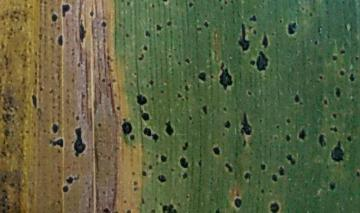tarspot: (216, 61, 235, 91), (71, 126, 87, 157), (237, 21, 251, 53), (329, 140, 347, 163), (239, 110, 254, 136), (255, 50, 271, 72), (162, 119, 175, 137), (77, 19, 87, 42), (120, 118, 132, 136), (316, 132, 329, 148), (286, 19, 298, 36), (46, 137, 66, 147), (59, 3, 73, 17), (135, 92, 148, 106), (177, 156, 191, 169), (222, 161, 236, 174), (161, 203, 179, 213), (260, 33, 271, 49), (139, 110, 152, 123), (285, 153, 297, 167), (268, 201, 281, 213), (231, 196, 244, 208), (49, 121, 60, 134), (142, 126, 155, 137), (298, 127, 308, 141), (333, 85, 343, 99), (197, 71, 209, 82), (326, 180, 338, 191), (56, 34, 66, 47), (200, 104, 211, 115), (211, 145, 222, 156), (31, 94, 38, 110), (99, 18, 109, 29), (157, 174, 168, 184), (223, 118, 233, 129), (48, 13, 60, 22), (151, 133, 161, 143), (292, 93, 302, 103), (64, 176, 76, 184), (112, 104, 124, 112), (181, 141, 190, 151), (154, 23, 164, 32), (284, 133, 293, 143), (60, 185, 71, 193), (159, 154, 168, 163), (270, 173, 279, 182), (248, 14, 257, 23), (138, 52, 146, 62), (88, 9, 96, 18), (329, 125, 338, 133), (321, 97, 330, 105), (184, 56, 193, 64), (338, 68, 346, 77), (96, 120, 104, 129), (221, 105, 230, 113), (312, 38, 320, 47), (244, 171, 251, 181), (338, 48, 348, 55), (130, 179, 141, 185), (143, 29, 151, 37), (183, 84, 191, 92), (331, 54, 339, 62), (285, 117, 293, 125), (146, 163, 154, 171), (259, 164, 268, 171), (181, 171, 188, 180), (187, 1, 196, 8), (140, 197, 147, 206), (126, 1, 135, 8), (141, 170, 148, 178), (349, 74, 356, 82), (331, 112, 339, 119), (202, 21, 210, 28), (318, 74, 326, 81), (99, 76, 107, 83), (246, 89, 253, 97), (250, 58, 256, 67), (141, 45, 150, 51), (73, 115, 82, 121), (215, 207, 224, 213), (354, 167, 360, 176), (346, 133, 352, 142), (198, 159, 204, 168), (129, 134, 136, 141), (132, 185, 138, 193), (125, 32, 131, 40), (125, 208, 134, 213), (103, 207, 110, 213), (149, 79, 155, 86), (166, 20, 173, 26), (176, 91, 182, 98), (150, 208, 158, 213), (243, 138, 247, 148), (224, 1, 230, 7), (187, 116, 194, 121), (160, 1, 171, 4)
